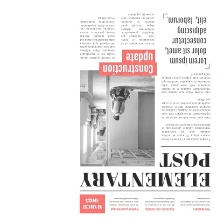news_paper: (77, 10, 215, 217)
